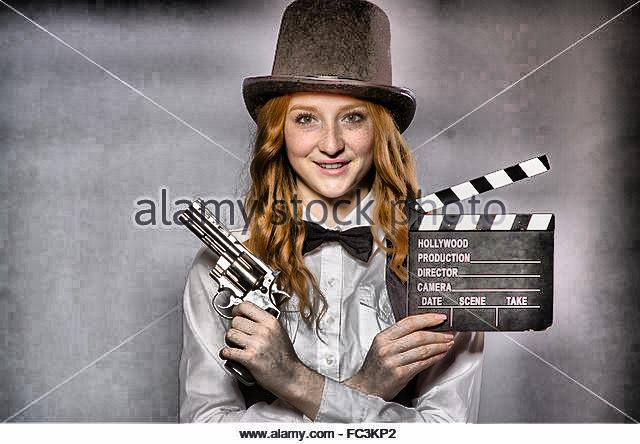pistol: (171, 200, 287, 388)
